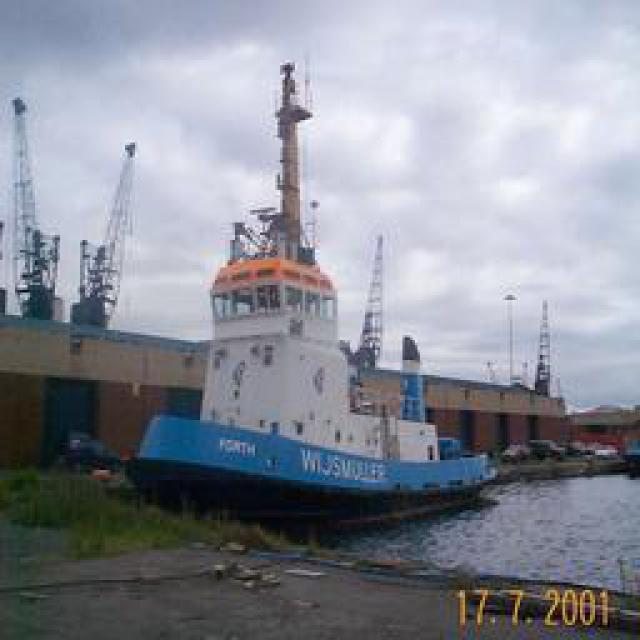Ship: (136, 75, 491, 523)
